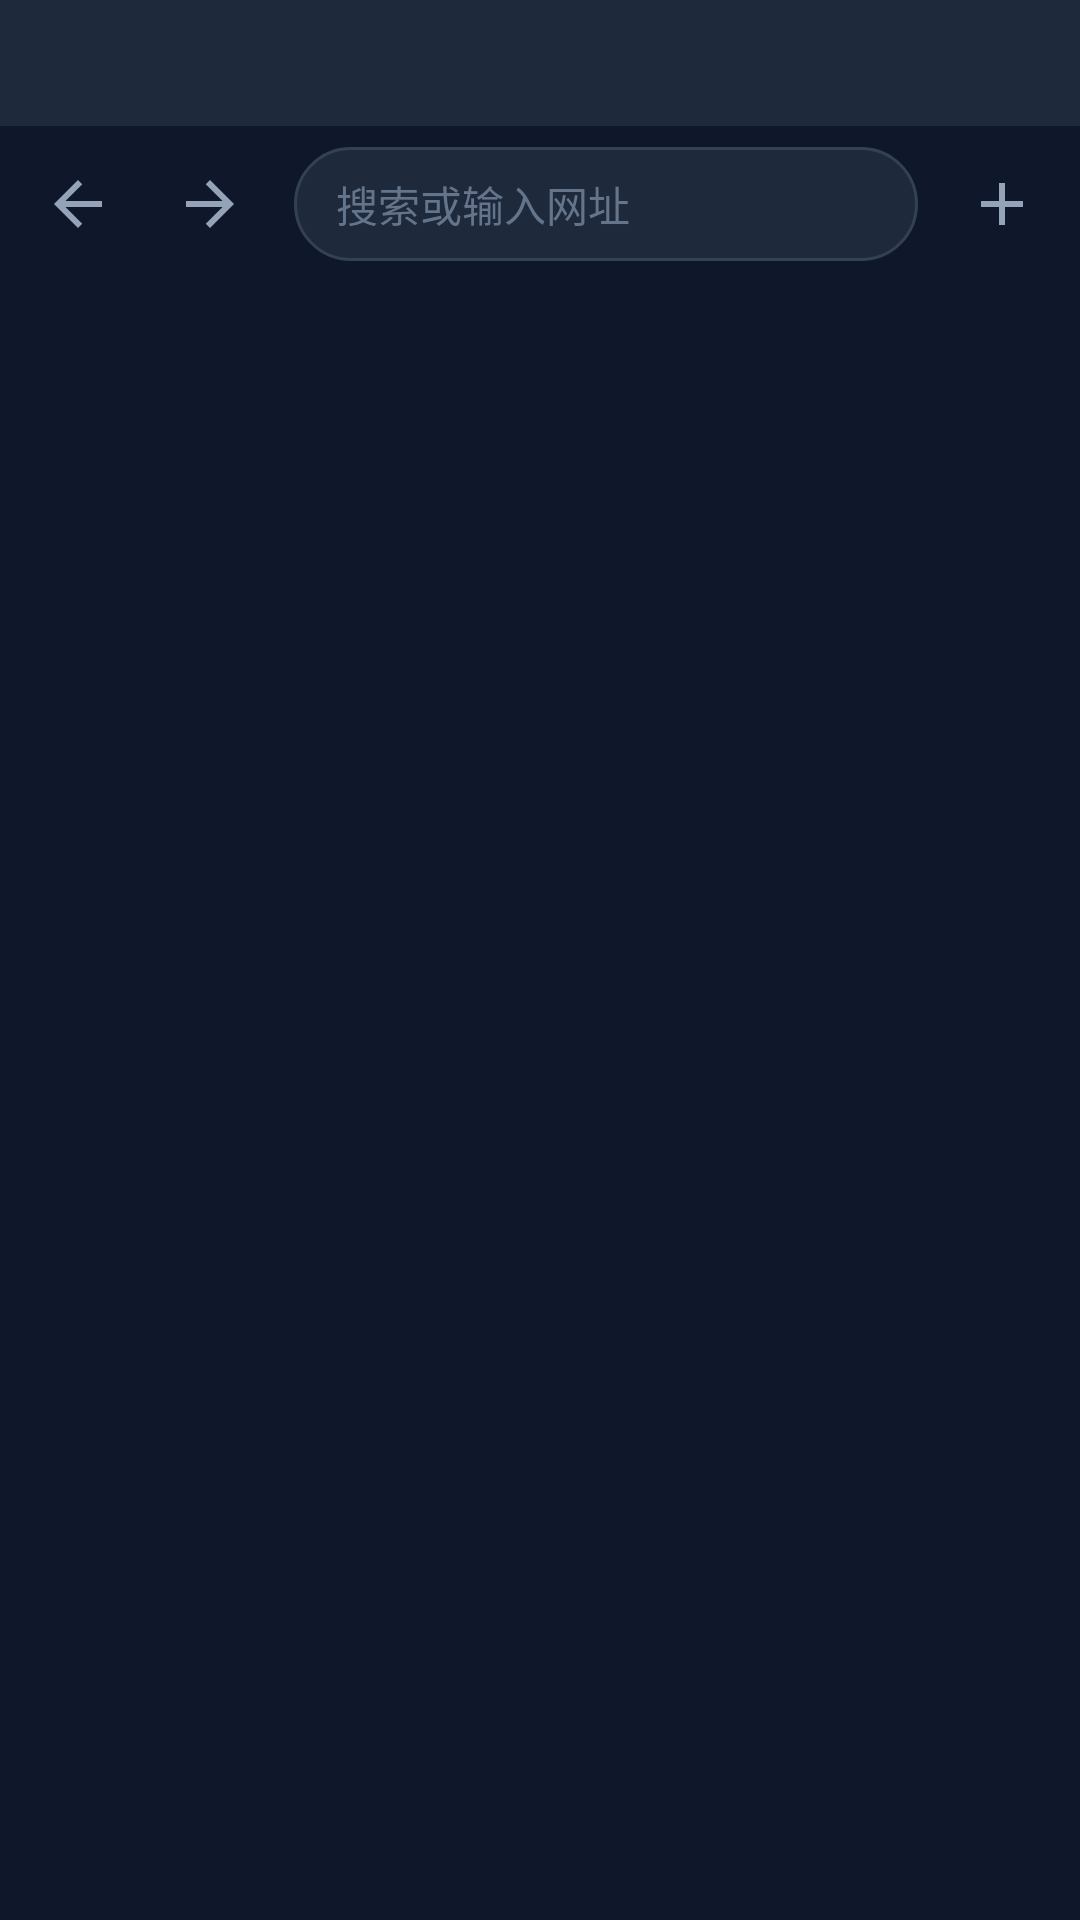

Named icons in this screenshot (1080px x 1920px) and their centers, (x,y):
前进: (210,204)
后退: (78,204)
新标签: (1002,204)
